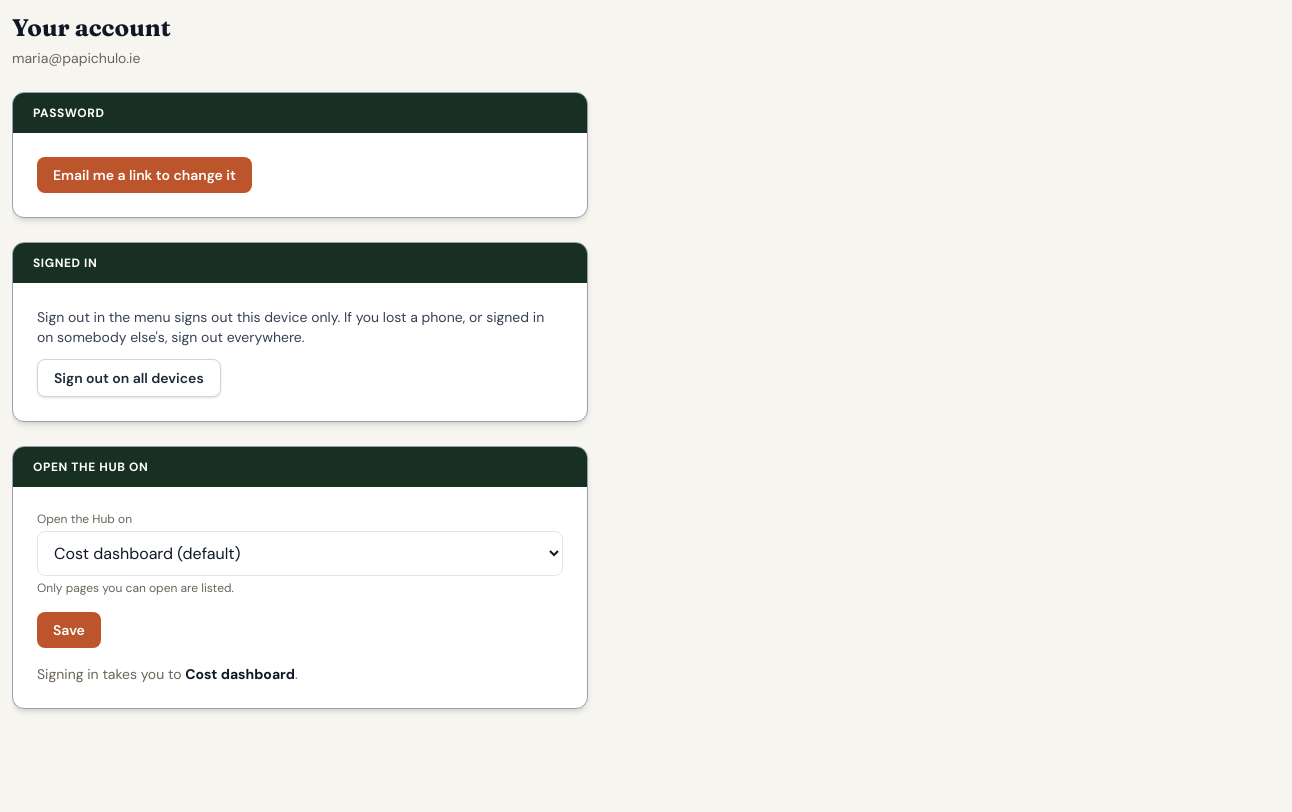
saving › says so when it did not go through
The width and height of the screenshot is (1292, 812).
Click the button "Save" at [69, 630], box [37, 612, 101, 648]
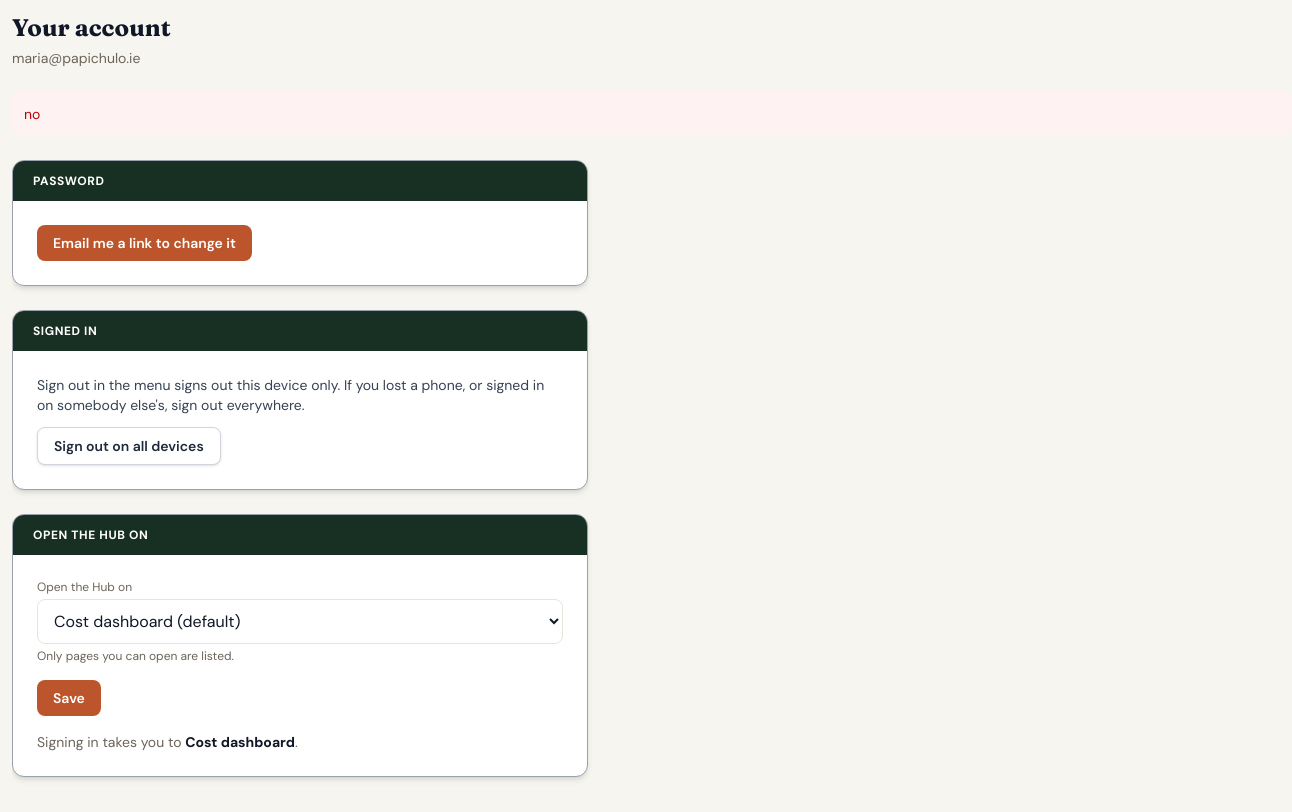
Check: the message "no" is shown, box [12, 92, 1291, 136]
